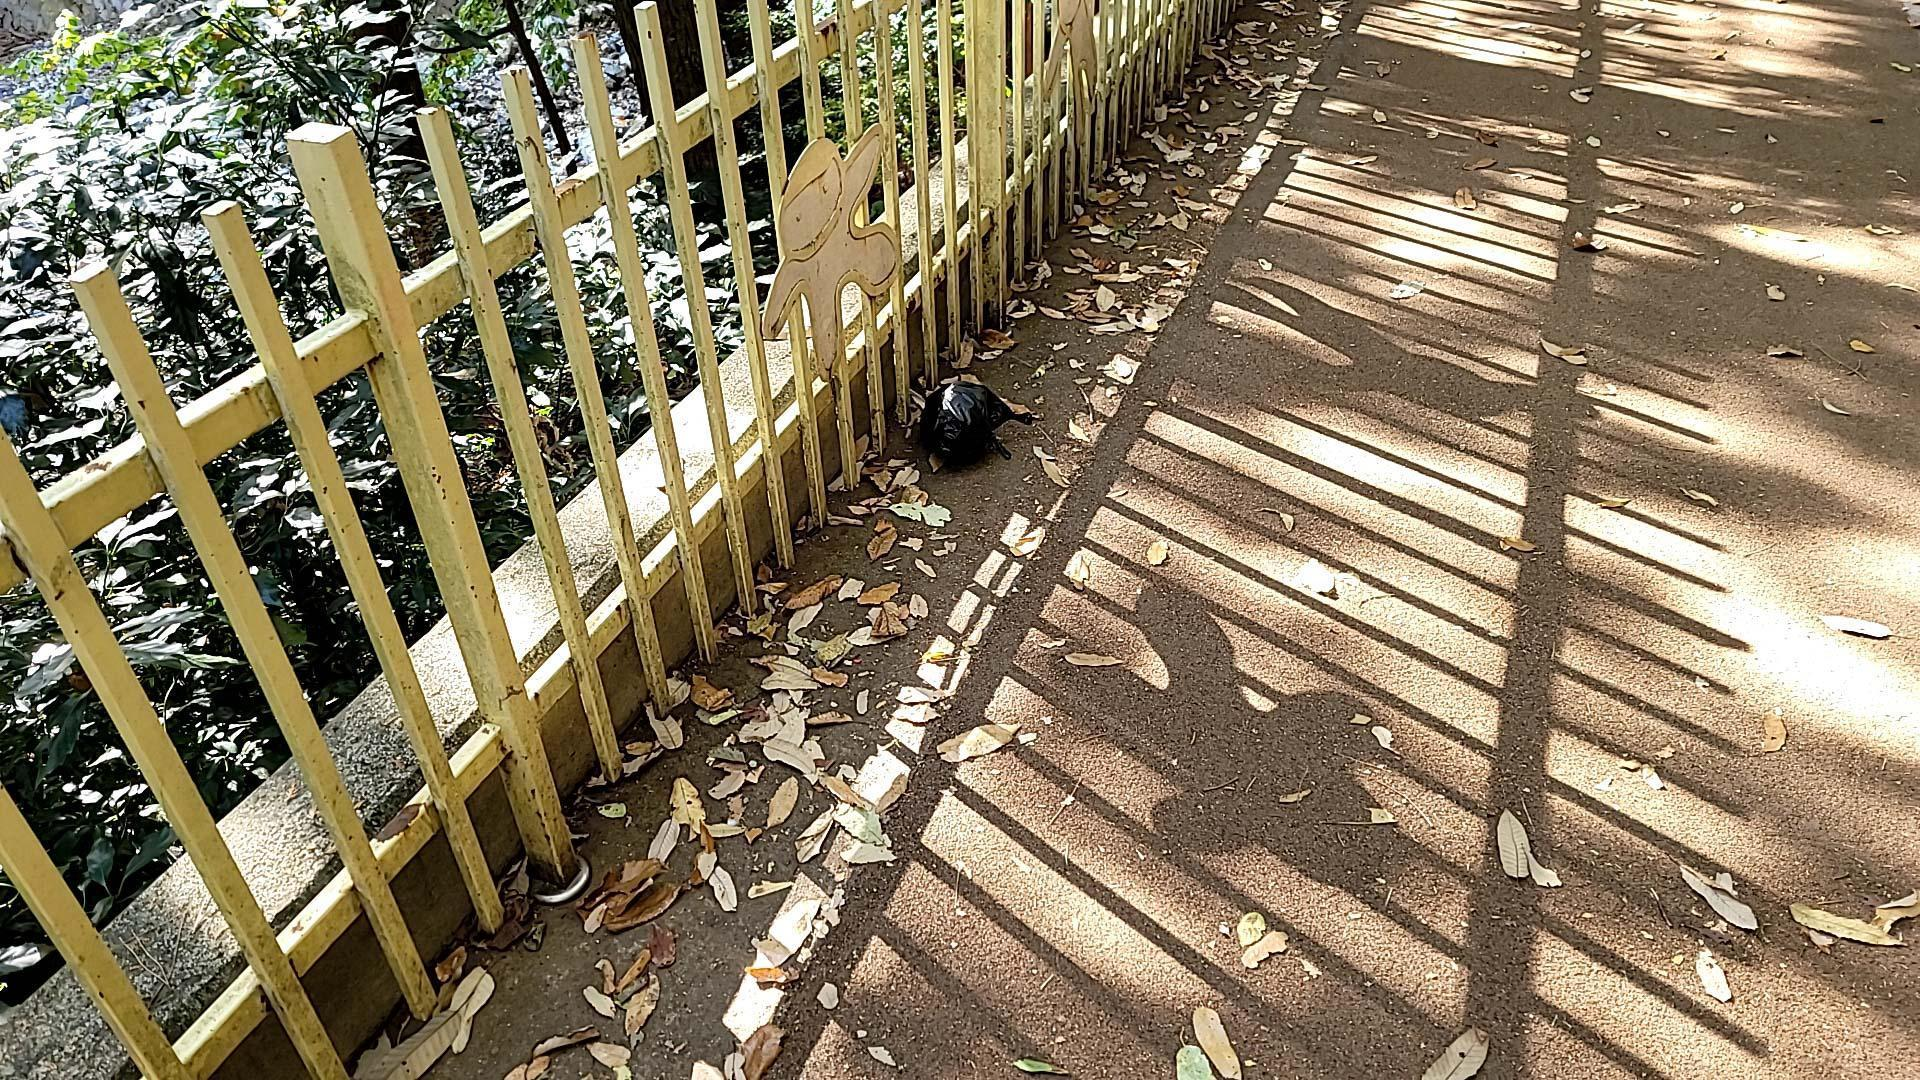black_bag: (911, 371, 1036, 473)
